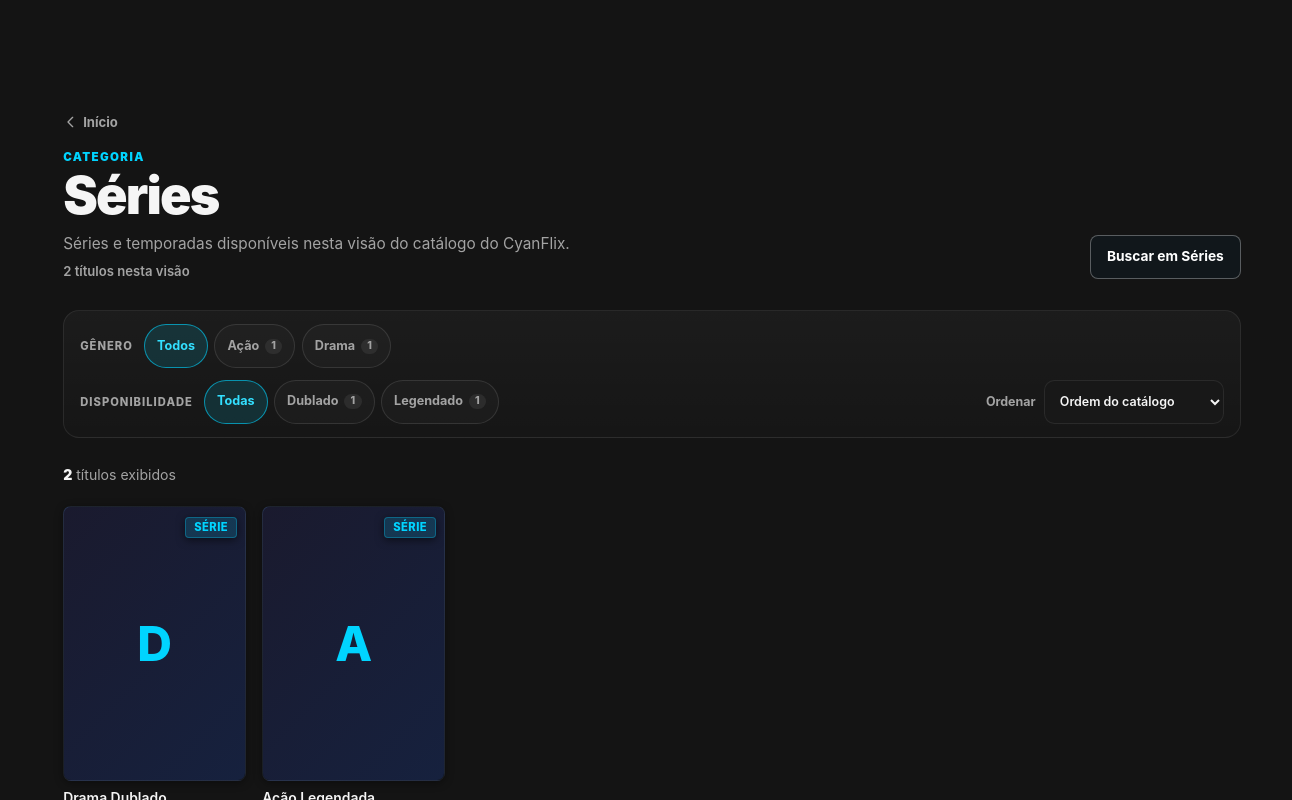
Test: turns a category route into a filterable catalog view with real counts
Expected: the heading "Séries" is shown, x1=63 y1=164 x2=218 y2=227
Expected: the text "2 títulos nesta visão" is shown, x1=63 y1=263 x2=190 y2=279
Click the button with aria-label "Drama, 1 título" at [347, 346], box x1=302 y1=324 x2=391 y2=368
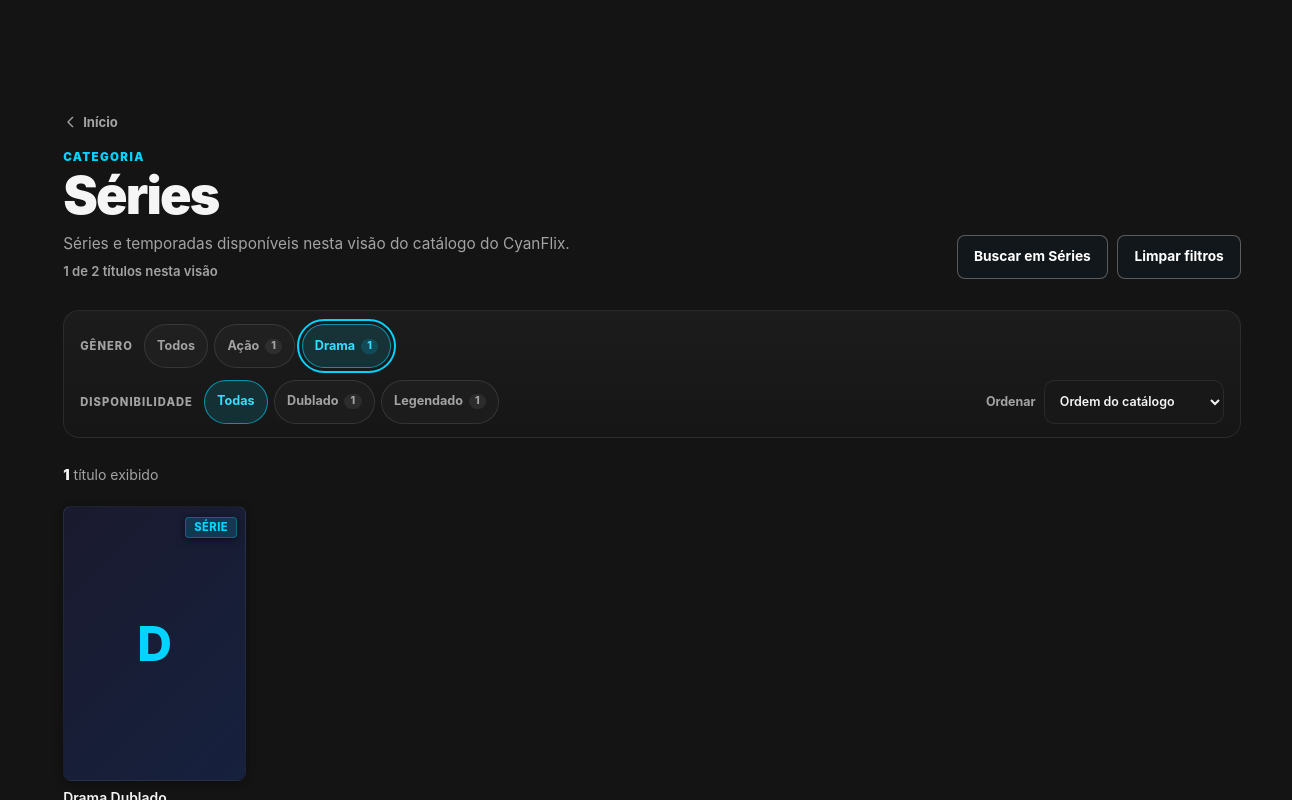
Expected: the text "1 de 2 títulos nesta visão" is shown, x1=63 y1=263 x2=218 y2=279
Click the button with aria-label "Dublado, 1 título" at [324, 402], box x1=274 y1=380 x2=375 y2=424
(page scrolled)
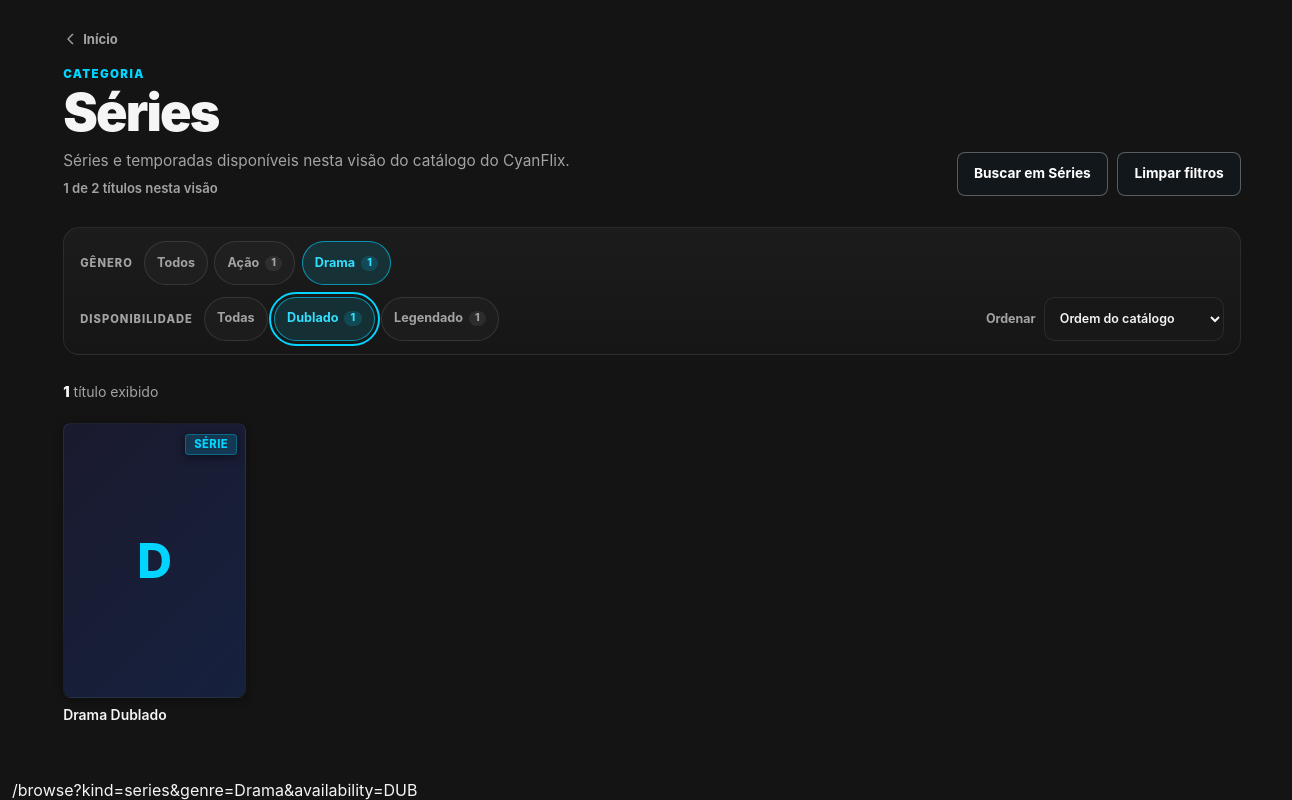
Expected: the link "Ação Legendada" is not shown
Expected: the text with test id "location" reads "/browse?kind=series&genre=Drama&availability=DUB", x1=12 y1=780 x2=417 y2=799
